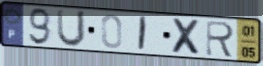0: (100, 13, 124, 50)
9: (28, 6, 55, 47)
I: (137, 15, 150, 53)
R: (205, 19, 237, 59)
U: (55, 8, 88, 49)
X: (170, 17, 205, 57)
